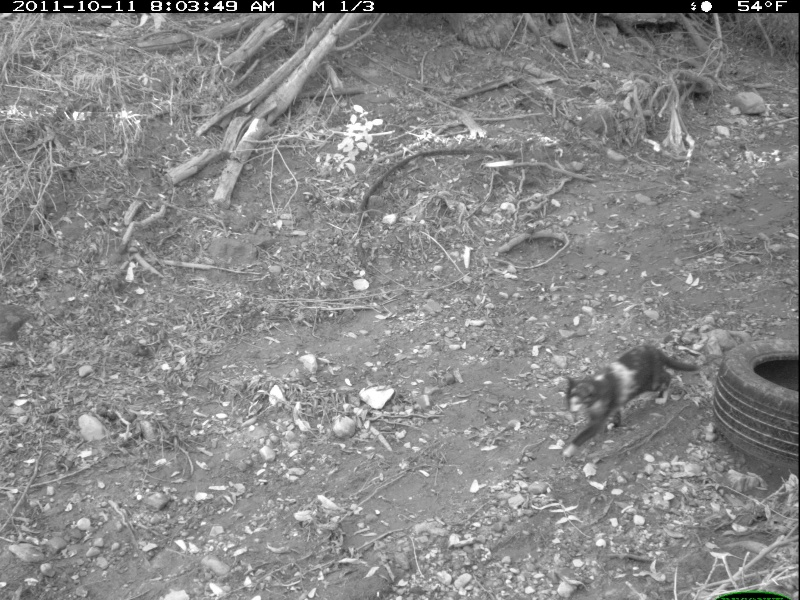cat: (557, 315, 701, 458)
